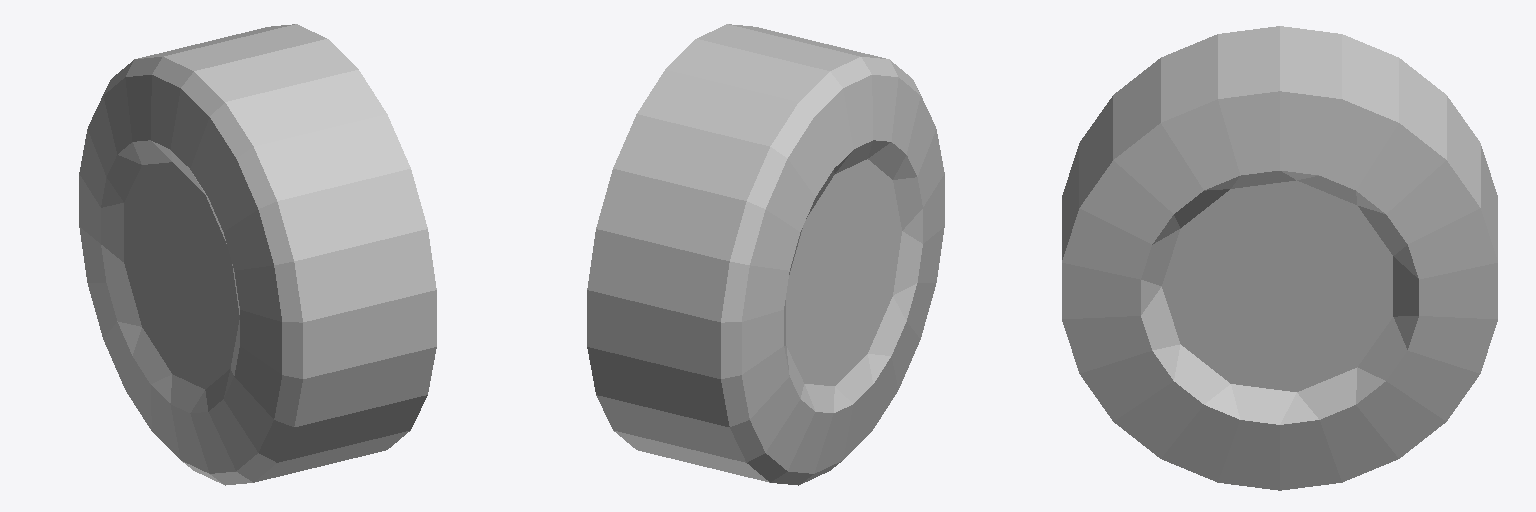
Rendered from wheel.obj.
3 views of the same model, side by side, from view 1: azimuth 30°, elevation 25°; view 2: azimuth 150°, elevation 25°; view 3: azimuth 270°, elevation 25° (orthographic).
Size of the model in its own units: 0.628 by 1.4 by 1.39.